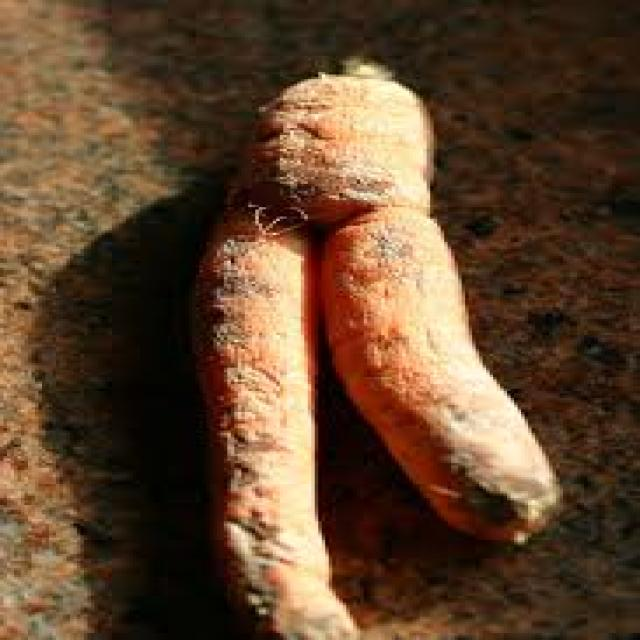Stale_Carrot: (222, 57, 540, 599)
